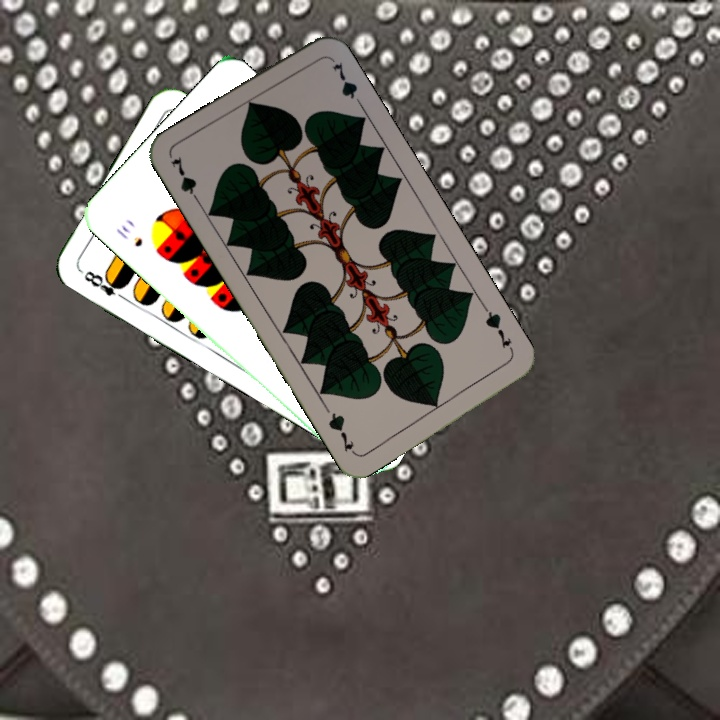E8: (80, 266, 129, 303)
G7: (167, 152, 204, 208), (479, 303, 517, 356)
S10: (112, 220, 146, 250)
